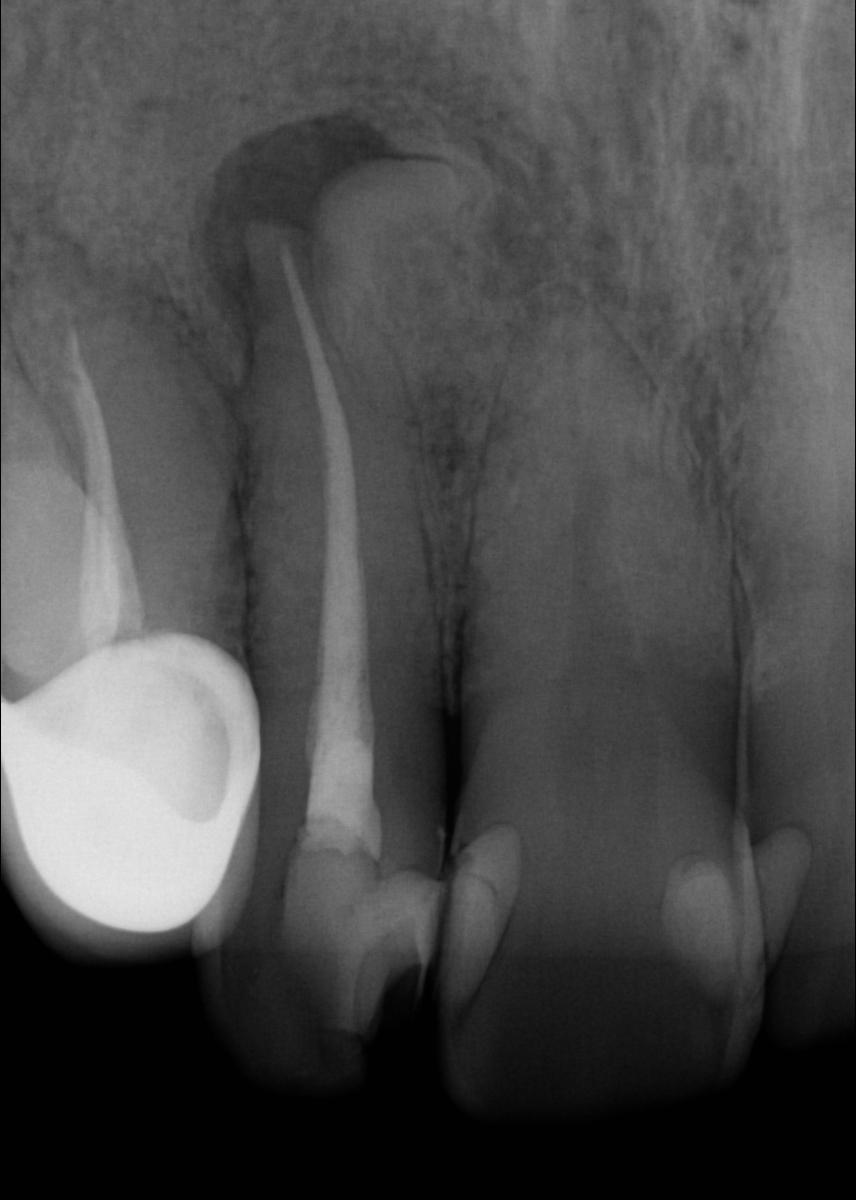Furcation Involvement: (197, 113, 453, 338)
